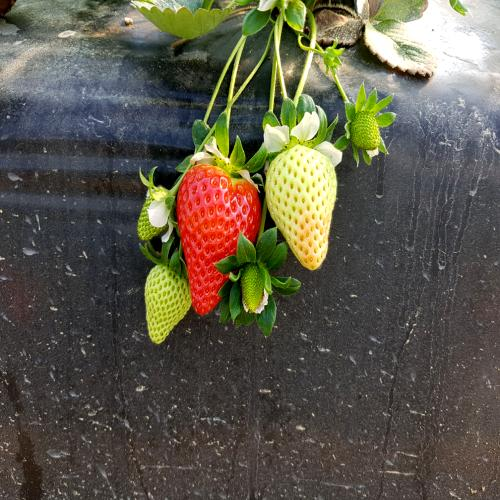ripe: (174, 152, 264, 334)
unripe: (266, 140, 342, 273)
